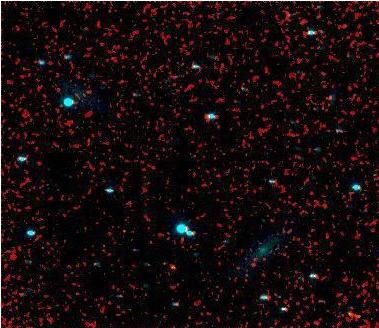star: (109, 214, 139, 244)
